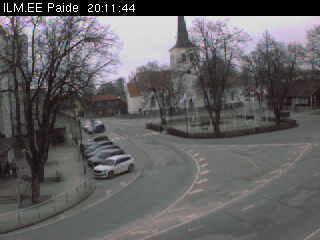car: (93, 153, 135, 180), (88, 148, 124, 166), (88, 144, 121, 161), (85, 141, 113, 159), (81, 135, 111, 151), (275, 108, 291, 122), (87, 123, 105, 134), (84, 120, 100, 130)
person: (2, 160, 11, 177), (11, 162, 19, 180)
